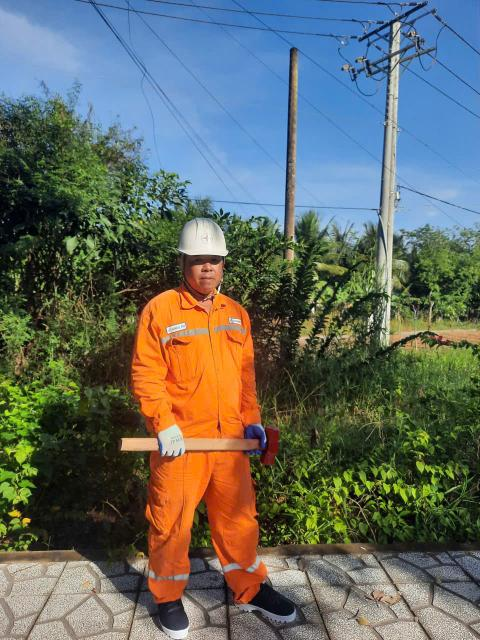gloves: (150, 422, 190, 461), (238, 420, 275, 462)
helmet: (164, 214, 236, 264)
shoes: (226, 573, 308, 631), (147, 588, 198, 640)
